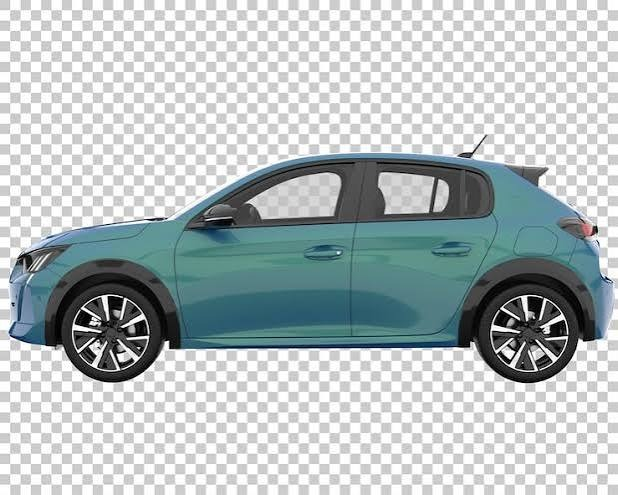car: (1, 155, 618, 385), (6, 156, 618, 384)
